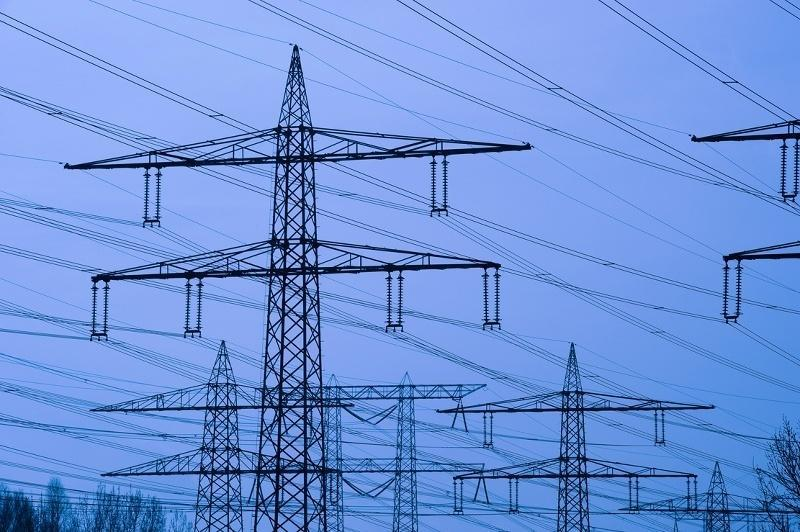power_tower: (64, 38, 535, 532), (434, 337, 718, 531), (87, 338, 358, 532), (286, 358, 498, 532), (232, 366, 406, 526), (686, 118, 800, 329), (618, 454, 800, 532)
